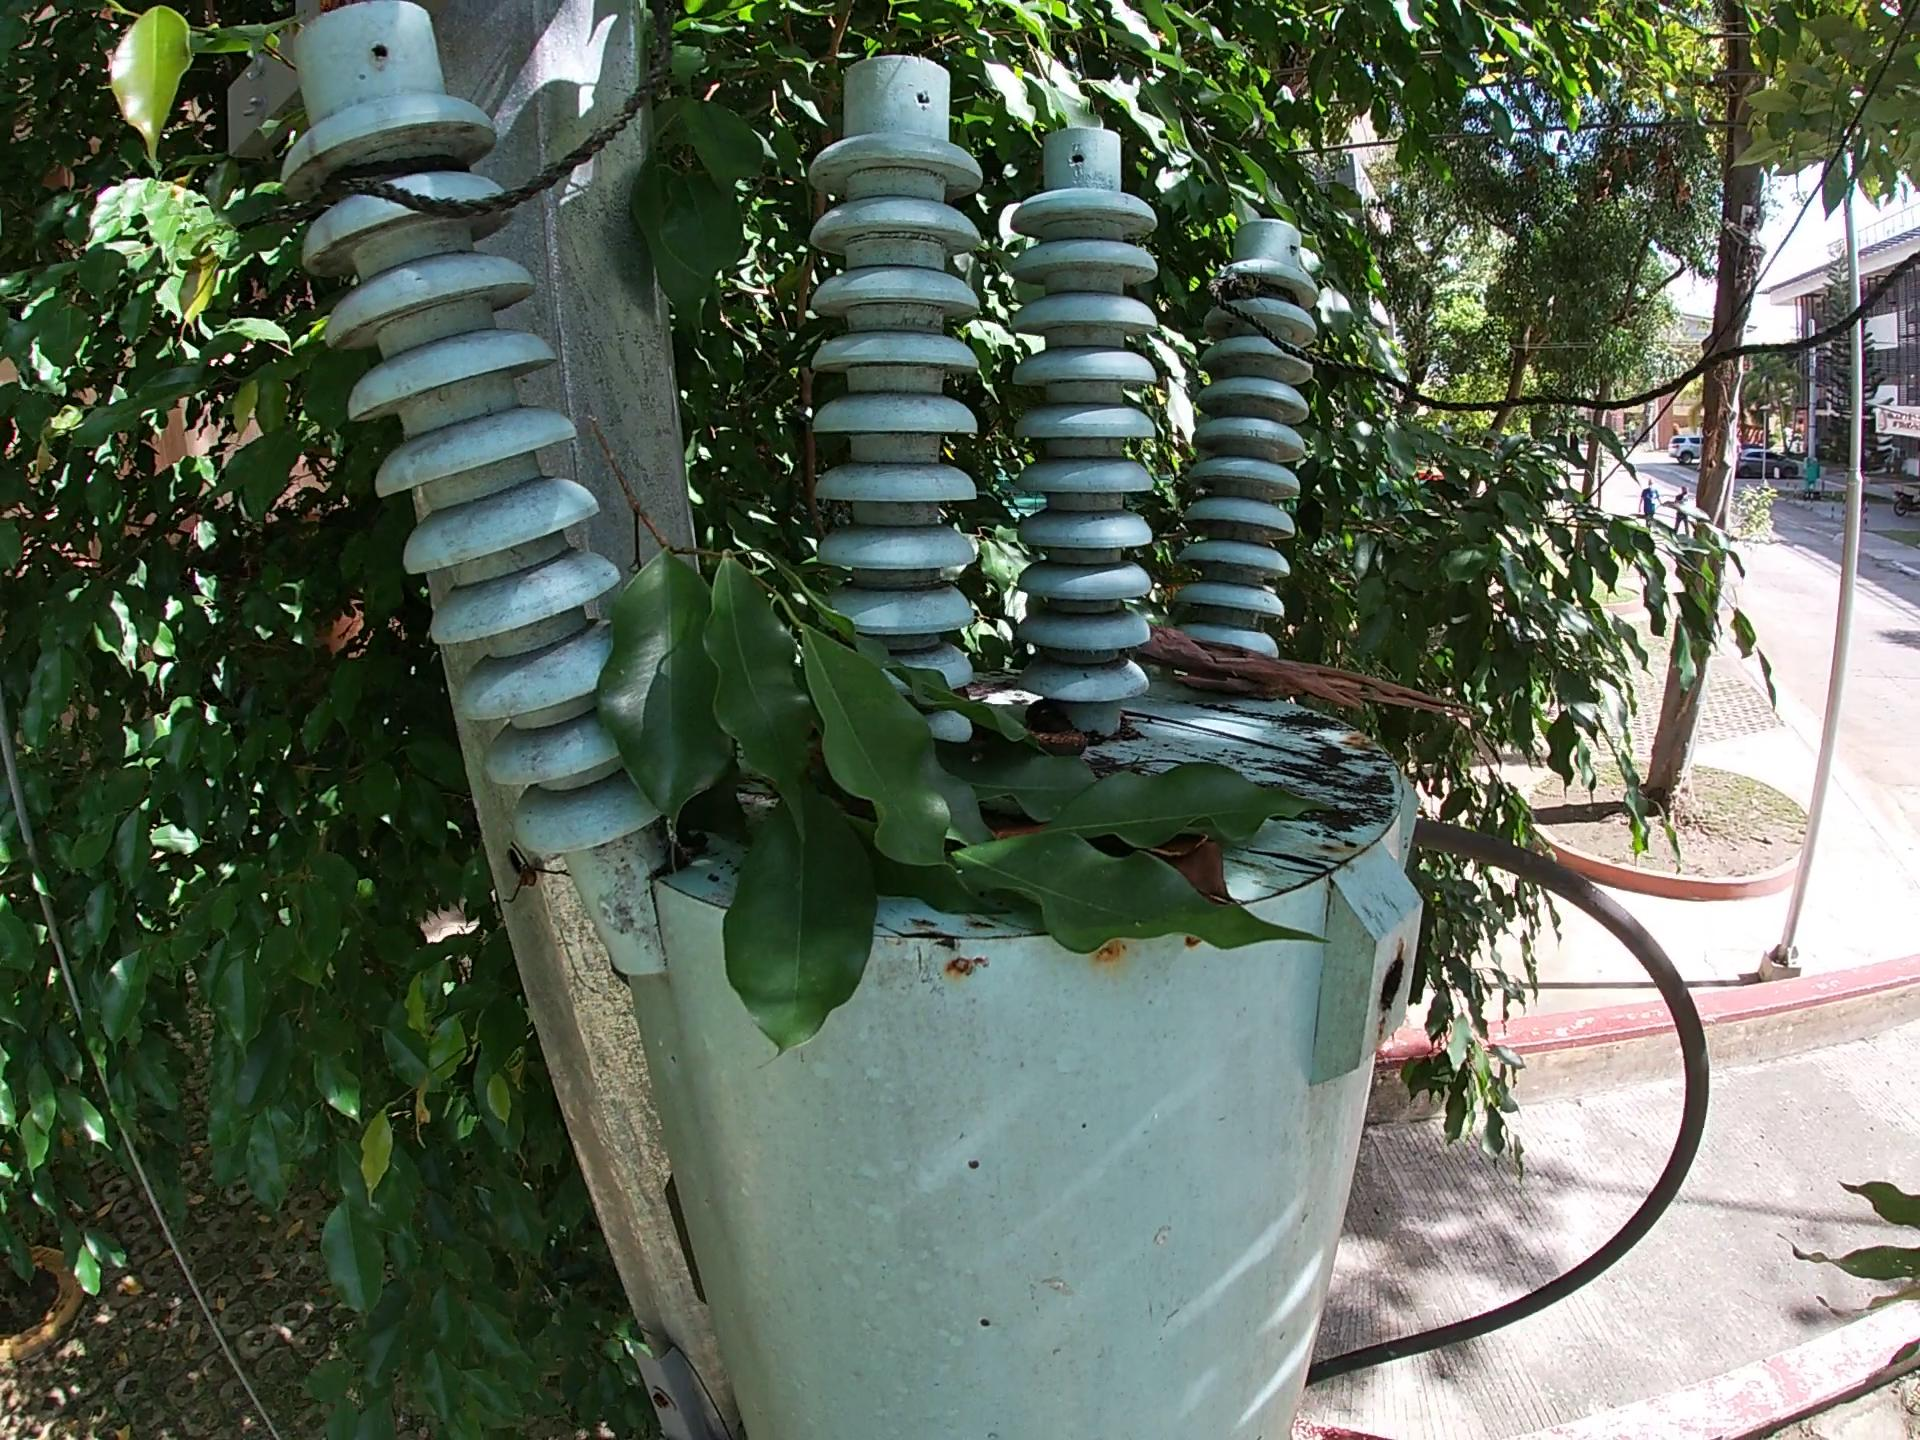branch with leaves: (568, 408, 1382, 995)
mahogany fruit: (1132, 829, 1268, 920), (983, 708, 1098, 759), (984, 814, 1079, 858)
tree branch: (1143, 617, 1491, 740), (1116, 711, 1359, 782)
